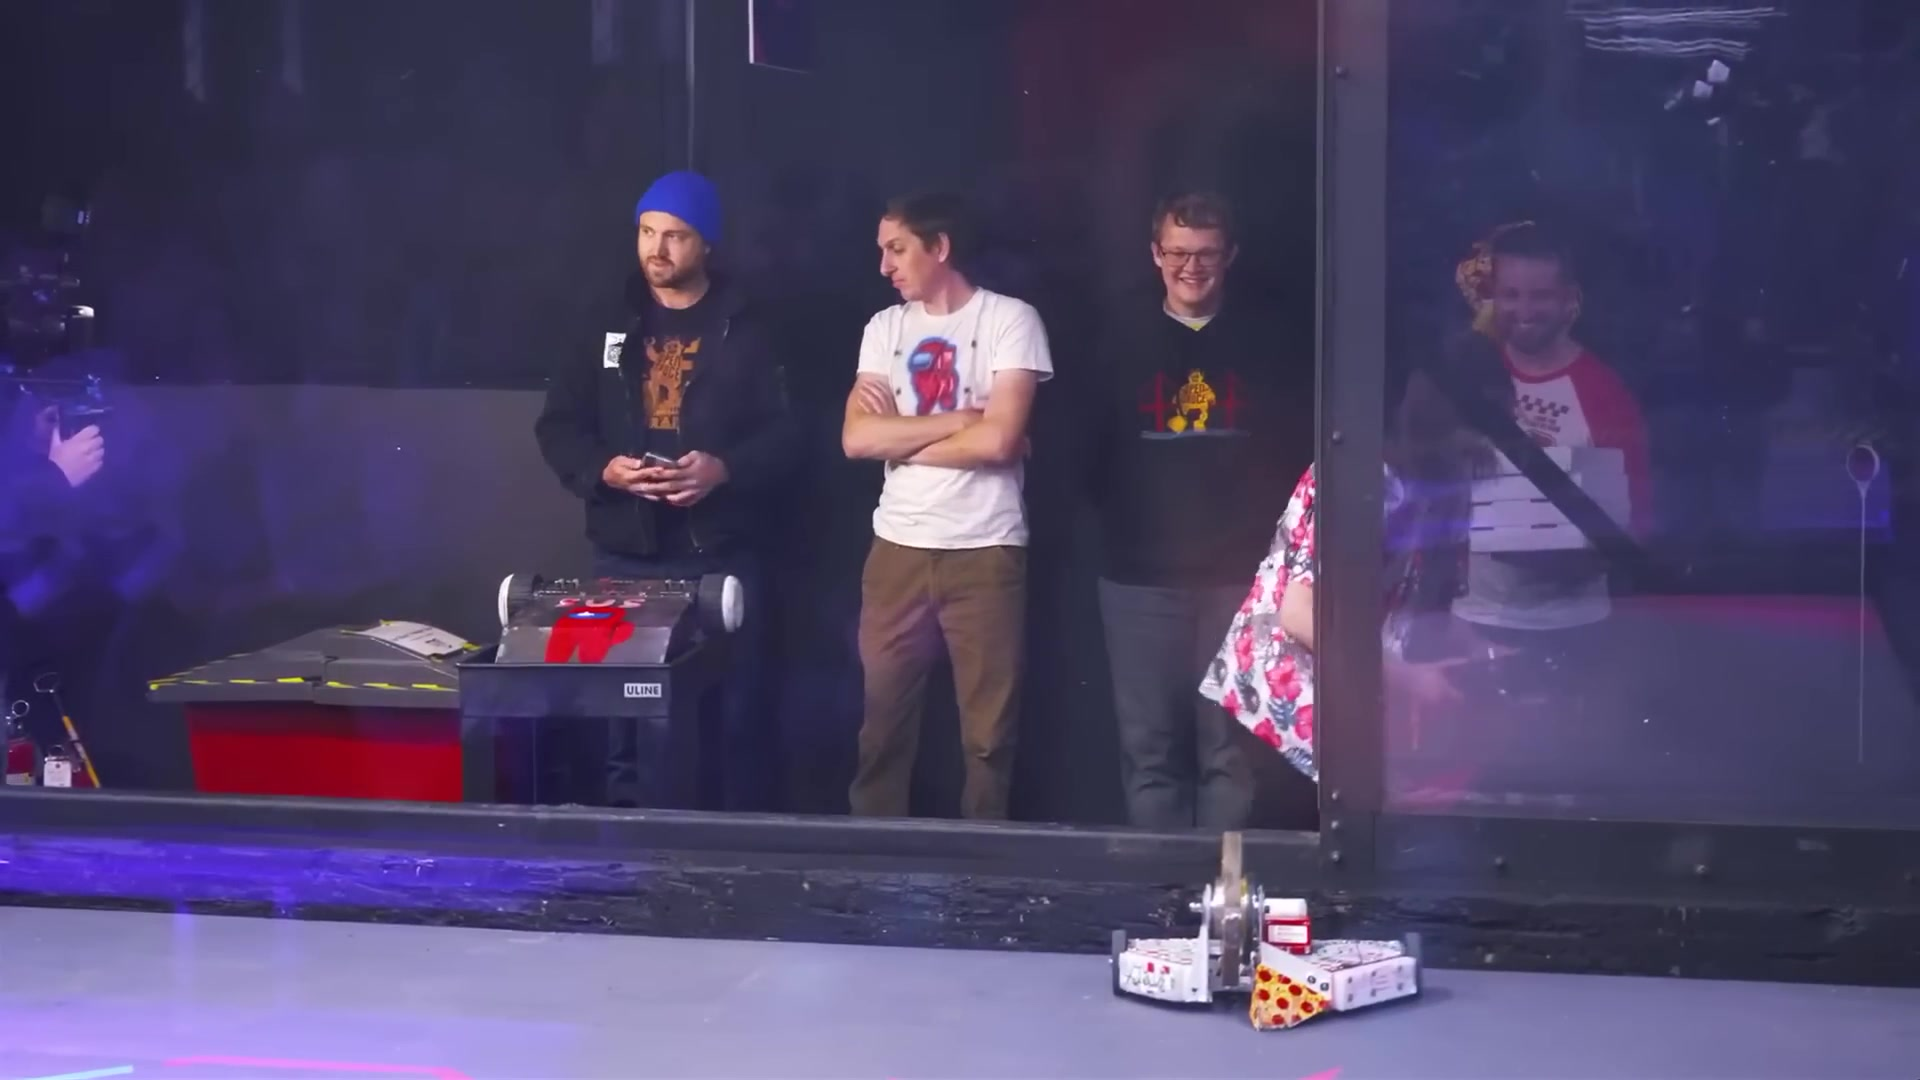combatbot: (1110, 831, 1433, 1039), (496, 568, 745, 676)
